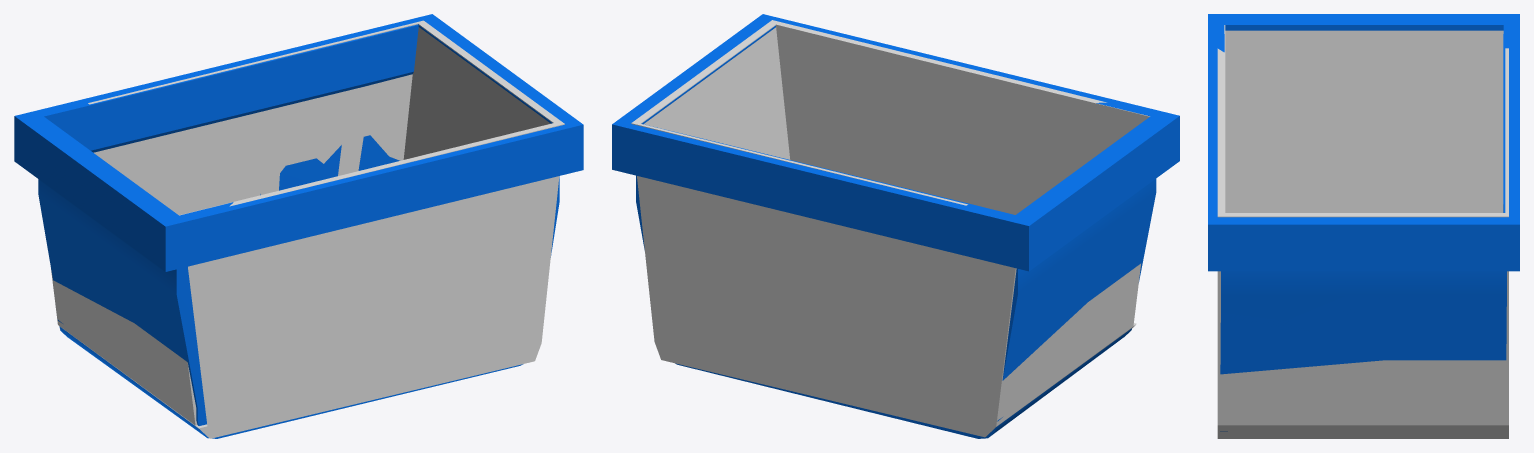
File: basket final.fbx
3 views of the same model, side by side, from view 1: azimuth 30°, elevation 25°; view 2: azimuth 150°, elevation 25°; view 3: azimuth 270°, elevation 25° (orthographic). The views are drawn at different scales.
Parts seen in each view (by area): view 1: Korpa, Object002, Object001, Box001, zid, pod; view 2: Object001, Korpa, Object002, Box001, zid, pod; view 3: Korpa, zid, Box001, pod, Object002, Object001.
Part boxes in pixels (<box>): Korpa: <box>14,14,583,438</box>; Object002: <box>179,123,557,426</box>; Object001: <box>88,22,417,215</box>; Box001: <box>403,20,564,344</box>; zid: <box>51,269,197,425</box>; pod: <box>59,326,541,438</box>; Object001: <box>638,123,1007,424</box>; Korpa: <box>612,14,1179,438</box>; Object002: <box>776,22,1149,214</box>; Box001: <box>631,20,790,343</box>; zid: <box>988,263,1140,426</box>; pod: <box>654,323,1136,437</box>; Korpa: <box>1208,14,1519,431</box>; zid: <box>1225,30,1503,212</box>; Box001: <box>1217,213,1508,425</box>; pod: <box>1217,425,1508,438</box>; Object002: <box>1217,25,1225,212</box>; Object001: <box>1505,48,1508,212</box>.
Size of the model in its own units: 54.14 by 28.75 by 33.91.
